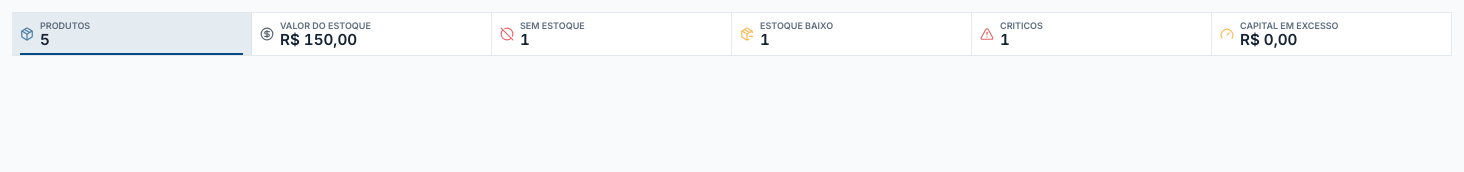
Test: EstoqueSummaryCards › explica fonte, periodo e regra de Sem estoque em tooltip acessivel
The image size is (1464, 172).
Focus the button "Sem estoque 1" at point(612, 34), box [492,13,732,55]
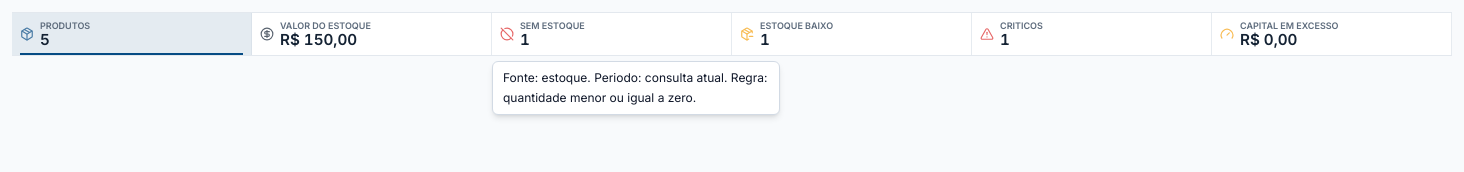
Expected: the tooltip shows "Fonte: estoque", [503,70,768,105]
Expected: the tooltip shows "Periodo: consulta atual", [503,70,768,105]
Expected: the tooltip shows "Regra: quantidade menor ou igual a zero", [503,70,768,105]
